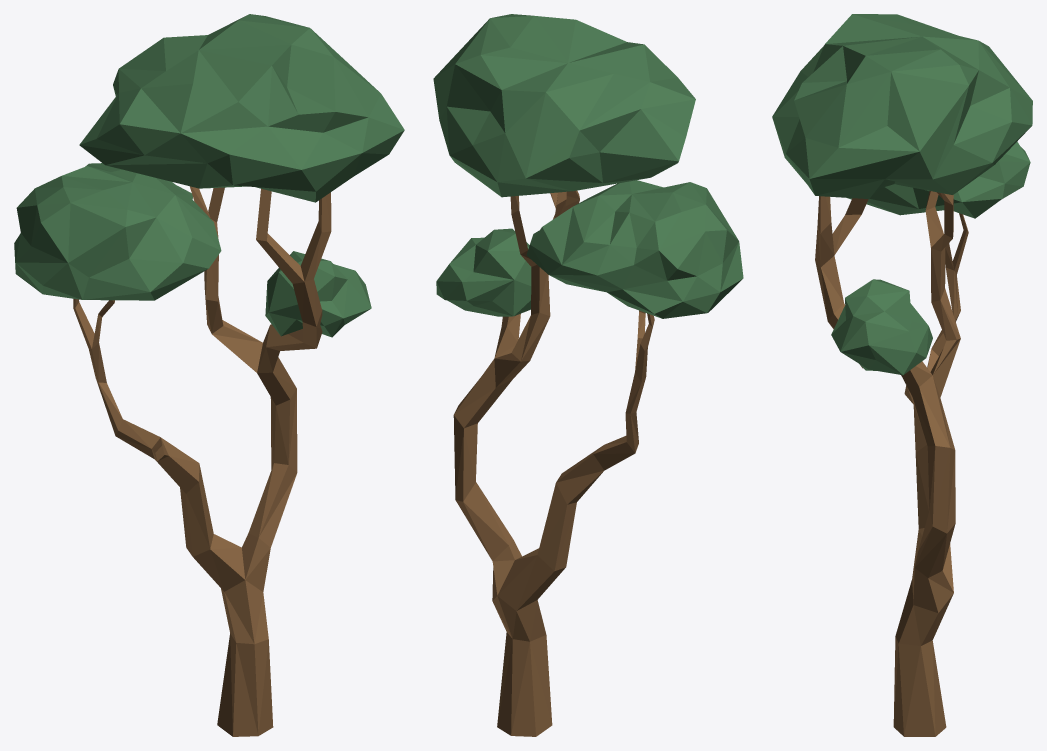
Rendered from SM_Env_Tree_02.FBX.
3 views of the same model, side by side, from view 1: azimuth 30°, elevation 25°; view 2: azimuth 150°, elevation 25°; view 3: azimuth 270°, elevation 25° (orthographic). The views are drawn at different scales.
Parts seen in each view (by area): view 1: SM_Env_Tree_02; view 2: SM_Env_Tree_02; view 3: SM_Env_Tree_02.
Part boxes in pixels (<box>): SM_Env_Tree_02: <box>14,14,404,736</box>; SM_Env_Tree_02: <box>433,14,743,736</box>; SM_Env_Tree_02: <box>772,14,1032,736</box>.
Size of the model in its own units: 2.23 by 4.68 by 1.62.
